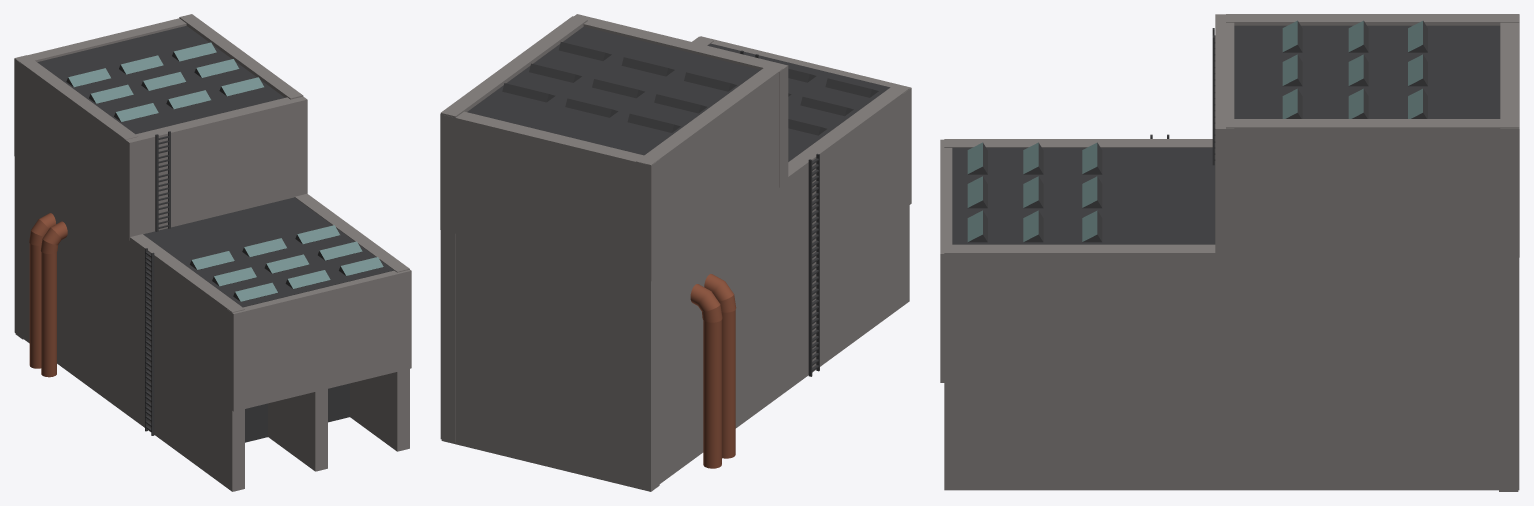
Rendered from IndustryDoorBuilding.fbx.
3 views of the same model, side by side, from view 1: azimuth 30°, elevation 25°; view 2: azimuth 150°, elevation 25°; view 3: azimuth 270°, elevation 25° (orthographic). The views are drawn at different scales.
Visible parts, largest first — view 1: pCube6, pCube11, pCube17, pCube1, pCube7, pCube12, pCube13, pCube10, pCube18, pCube19, pCube9, pCube2 (+28 smaller); view 2: pCube20, pCube86, pCube17, pCube7, pCube1, pCube12, pCube13, pCube18, pCube19, pCube9, pCube11, VatContainer:pCylinder2 (+10 smaller); view 3: pCube8, pCube16, pCube14, pCube2, pCube15, pCube10, pCube18, pCube9, pCube19, pCube11, pCube86, pCube6 (+2 smaller).
Boxes of the visible parts, bbox=[...] form: pCube6: bbox=[226, 269, 411, 411]; pCube11: bbox=[122, 96, 307, 240]; pCube17: bbox=[14, 55, 138, 231]; pCube1: bbox=[121, 321, 244, 491]; pCube7: bbox=[121, 231, 244, 404]; pCube12: bbox=[14, 157, 125, 331]; pCube13: bbox=[14, 236, 121, 410]; pCube10: bbox=[143, 197, 339, 267]; pCube18: bbox=[37, 26, 237, 98]; pCube19: bbox=[87, 62, 284, 134]; pCube9: bbox=[189, 231, 394, 307]; pCube2: bbox=[350, 369, 409, 451]; pCube20: bbox=[441, 234, 659, 491]; pCube86: bbox=[440, 111, 659, 281]; pCube17: bbox=[636, 65, 782, 273]; pCube7: bbox=[777, 84, 909, 293]; pCube1: bbox=[777, 191, 909, 397]; pCube12: bbox=[636, 185, 777, 393]; pCube13: bbox=[636, 282, 782, 490]; pCube18: bbox=[467, 69, 702, 155]; pCube19: bbox=[524, 26, 760, 114]; pCube9: bbox=[708, 43, 890, 133]; pCube11: bbox=[574, 14, 788, 187]; VatContainer:pCylinder2: bbox=[703, 320, 721, 468]; pCube8: bbox=[944, 244, 1237, 381]; pCube16: bbox=[1226, 119, 1519, 255]; pCube14: bbox=[1226, 252, 1519, 381]; pCube2: bbox=[944, 361, 1237, 490]; pCube15: bbox=[1226, 362, 1519, 490]; pCube10: bbox=[1094, 147, 1215, 244]; pCube18: bbox=[1363, 25, 1500, 118]; pCube9: bbox=[952, 147, 1094, 244]; pCube19: bbox=[1234, 25, 1369, 118]; pCube11: bbox=[1215, 14, 1234, 257]; pCube86: bbox=[1500, 14, 1519, 257]; pCube6: bbox=[940, 139, 959, 382].
Size of the model in its own units: 17.45 by 23.41 by 33.28.
